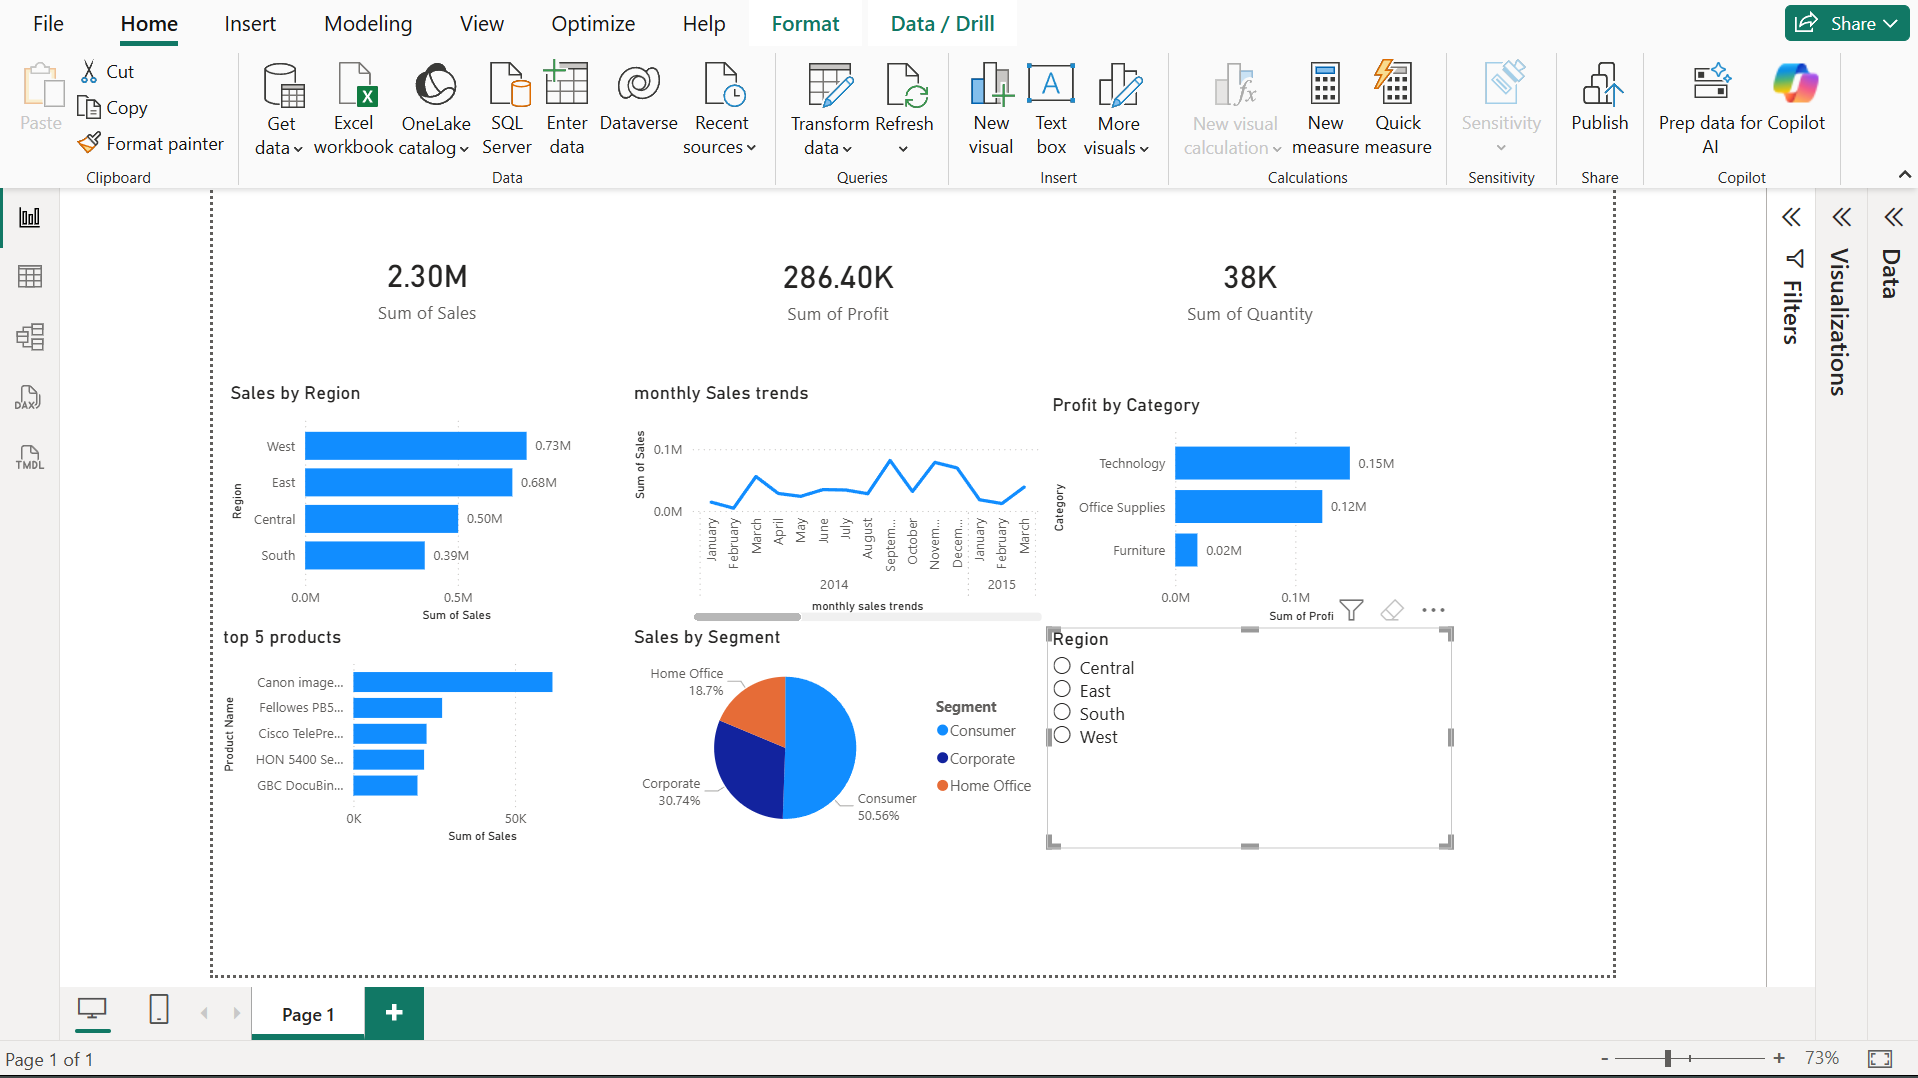

The dashboard page shown, as its layout file describes it:
{"tool":"powerbi","page":{"name":"Page 1","canvas":[1280,720],"ordinal":0},"visuals":[{"type":"card","fields":{"Values":["Sum(superstore_clean.Sales)"]},"box":[10.6,0,369.5,177.2],"z":0},{"type":"card","fields":{"Values":["Sum(superstore_clean.Profit)"]},"box":[380.1,1.5,383.1,177.2],"z":1000},{"type":"card","fields":{"Values":["Sum(superstore_clean.Quantity)"]},"box":[763.2,1.5,371,177.2],"z":2000},{"type":"clusteredBarChart","title":"Sales by Region","fields":{"Category":["superstore_clean.Region"],"Y":["Sum(superstore_clean.Sales)"]},"box":[10.6,177.2,369.5,224.1],"z":3000},{"type":"clusteredBarChart","title":"Profit by Category","fields":{"Category":["superstore_clean.Category"],"Y":["Sum(superstore_clean.Profit)"]},"box":[763.2,187.8,371,213.5],"z":4000},{"type":"pieChart","title":"Sales by Segment","fields":{"Category":["superstore_clean.Segment"],"Y":["Sum(superstore_clean.Sales)"]},"box":[380.1,401.3,383.1,202.9],"z":5000},{"type":"lineChart","title":"monthly  Sales trends   ","fields":{"Y":["Sum(superstore_clean.Sales)"],"Category":["superstore_clean.Order Date.Variation.Date Hierarchy.Year","superstore_clean.Order Date.Variation.Date Hierarchy.Month"]},"box":[380.1,177.2,383.1,224.1],"z":6000},{"type":"clusteredBarChart","title":"top 5 products","fields":{"Category":["superstore_clean.Product Name"],"Y":["Sum(superstore_clean.Sales)"]},"box":[4.5,401.3,375.5,202.9],"z":6001},{"type":"listSlicer","fields":{"Values":["superstore_clean.Region"]},"box":[763,402,371,202],"z":6002}]}

Visuals, with their boxes on the page's 1280x720 design canvas (x1, y1, x2, y2). These are canvas units, not pixel positions in the 1918x1078 screenshot, which may show the page scaled, cropped or inside an application window:
card - Sum(superstore_clean.Sales): <box>11,0,380,177</box>
card - Sum(superstore_clean.Profit): <box>380,2,763,179</box>
card - Sum(superstore_clean.Quantity): <box>763,2,1134,179</box>
"Sales by Region" clusteredBarChart: <box>11,177,380,401</box>
"Profit by Category" clusteredBarChart: <box>763,188,1134,401</box>
"Sales by Segment" pieChart: <box>380,401,763,604</box>
"monthly  Sales trends   " lineChart: <box>380,177,763,401</box>
"top 5 products" clusteredBarChart: <box>4,401,380,604</box>
listSlicer - superstore_clean.Region: <box>763,402,1134,604</box>
